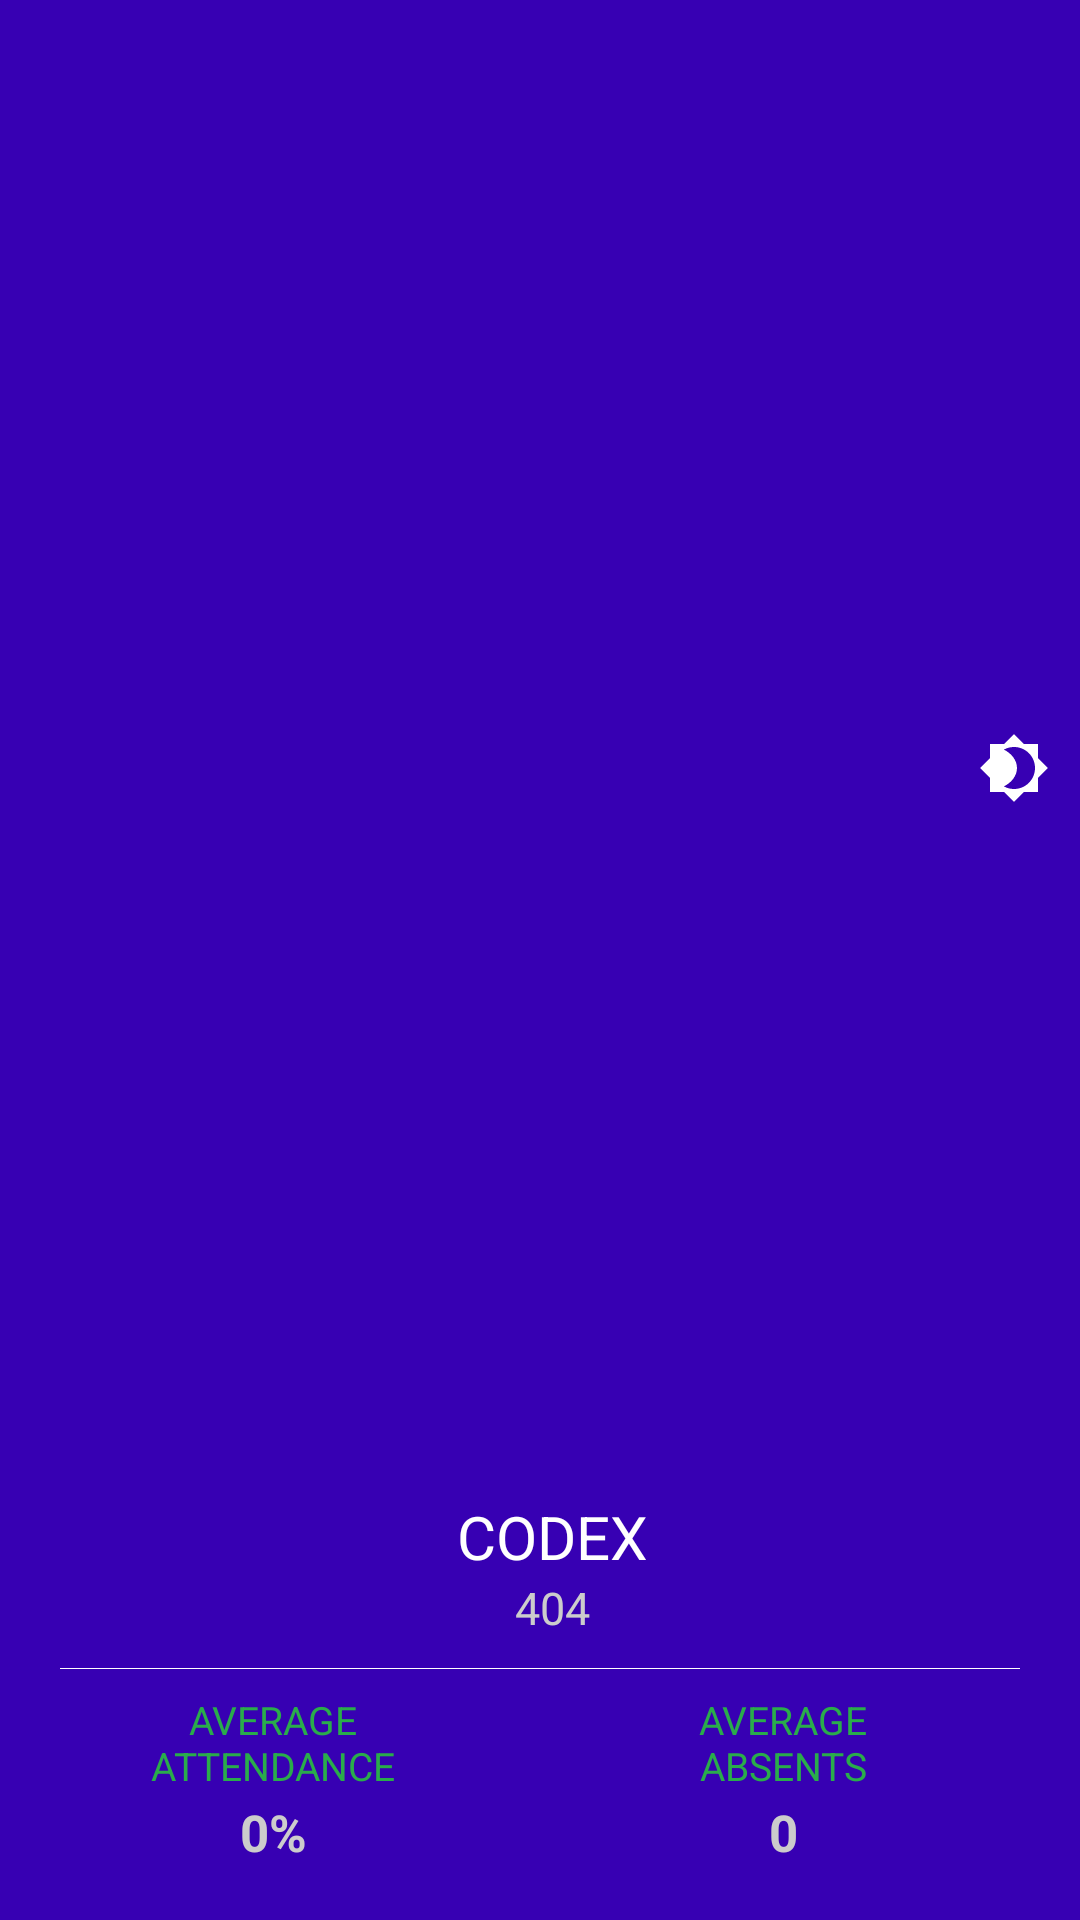

Locate icon controls on the screen. Image size 1080*1920, boxes as {"left": x1, "top": y1, "right": x2, "bottom": y2}.
theme: {"left": 980, "top": 734, "right": 1048, "bottom": 802}
